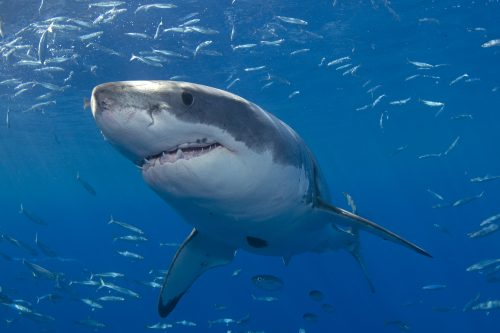shark: (82, 77, 440, 316)
